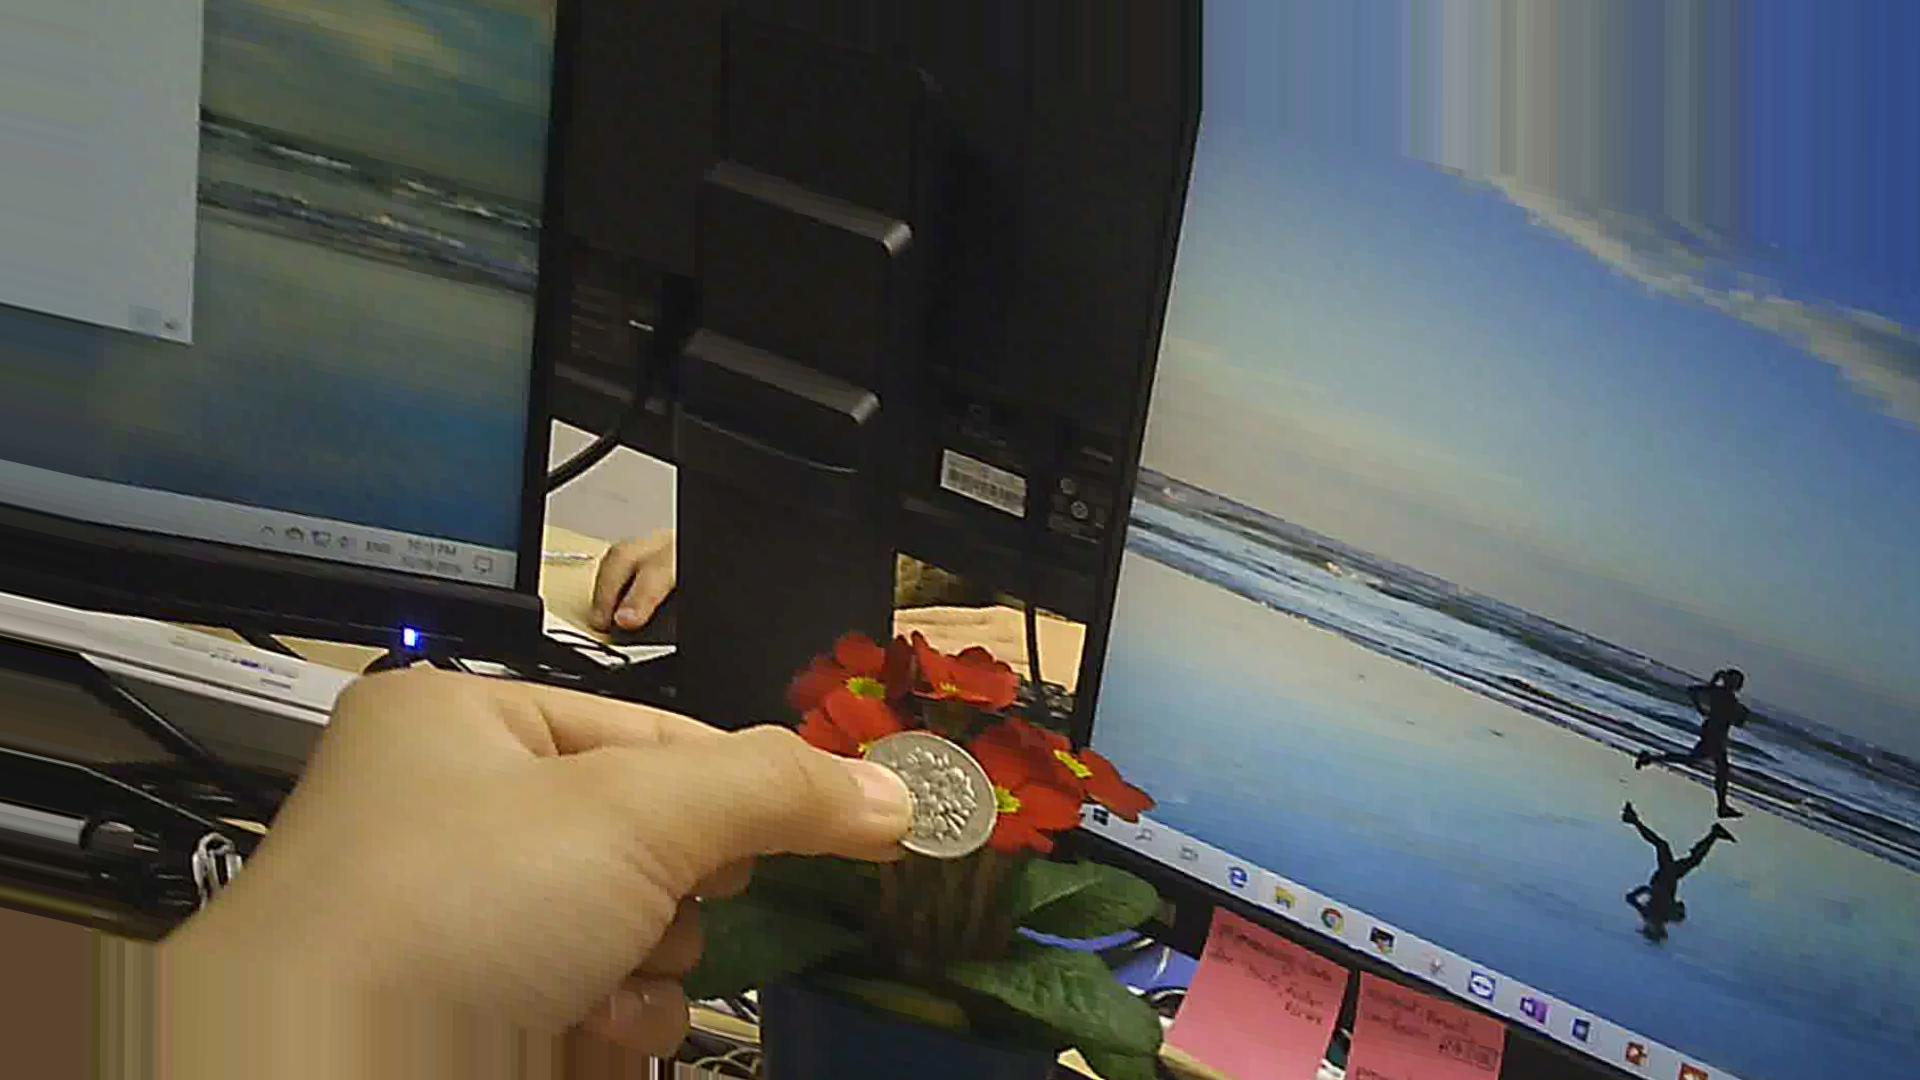100 Yen: (853, 717, 1002, 868)
